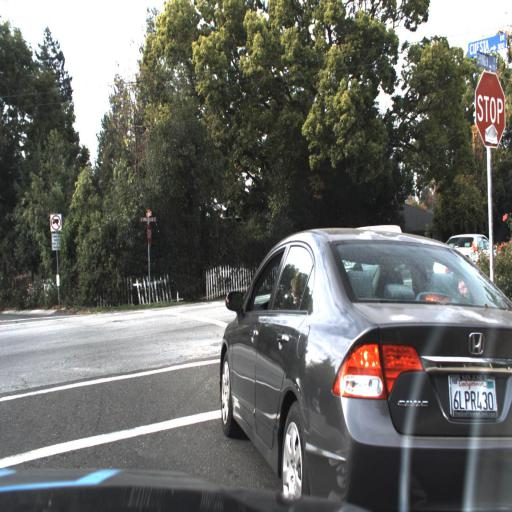car: (208, 227, 512, 509), (441, 216, 504, 264)
